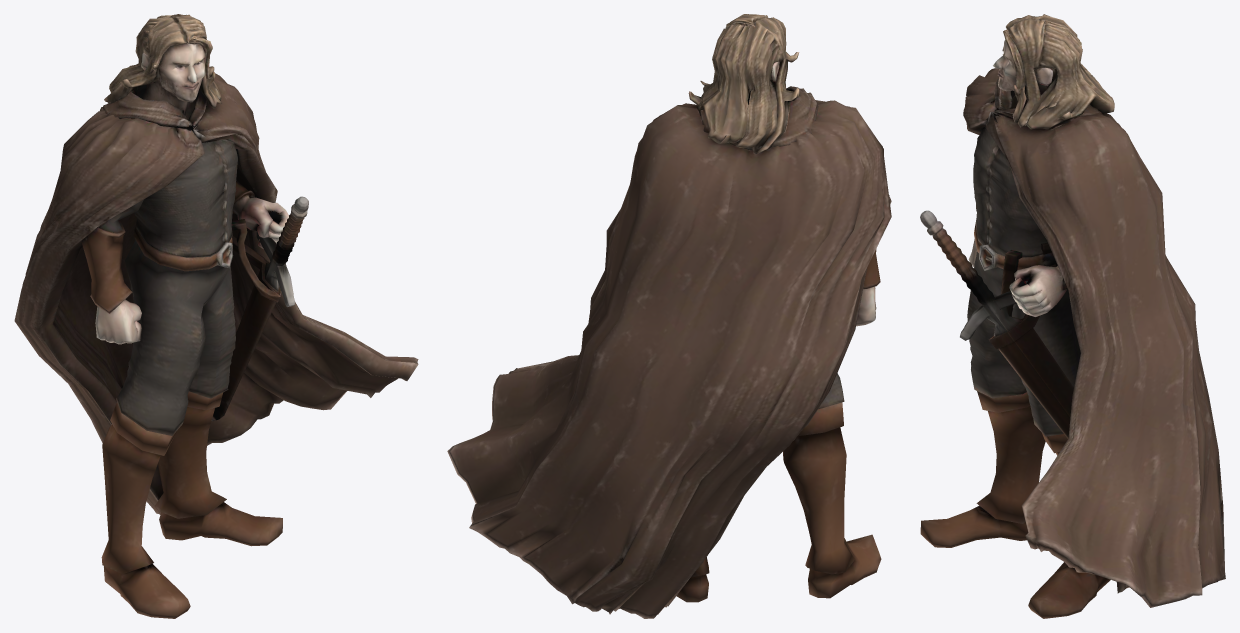
The model's file is MZ4250 - Ismark.glb.
The picture shows the model from 3 angles, left to right: view 1: azimuth 30°, elevation 25°; view 2: azimuth 150°, elevation 25°; view 3: azimuth 270°, elevation 25°; orthographic projection. The views are drawn at different scales.
Visible parts, largest first — view 1: FISTi; view 2: FISTi; view 3: FISTi.
Part boxes in pixels (left/top/right/bottom): FISTi: left=14, top=14, right=418, bottom=618; FISTi: left=447, top=14, right=891, bottom=618; FISTi: left=920, top=14, right=1225, bottom=618.
Bounding box in the file's own units: 0.837 × 1.18 × 0.5927.
1 material, 1 textured.
